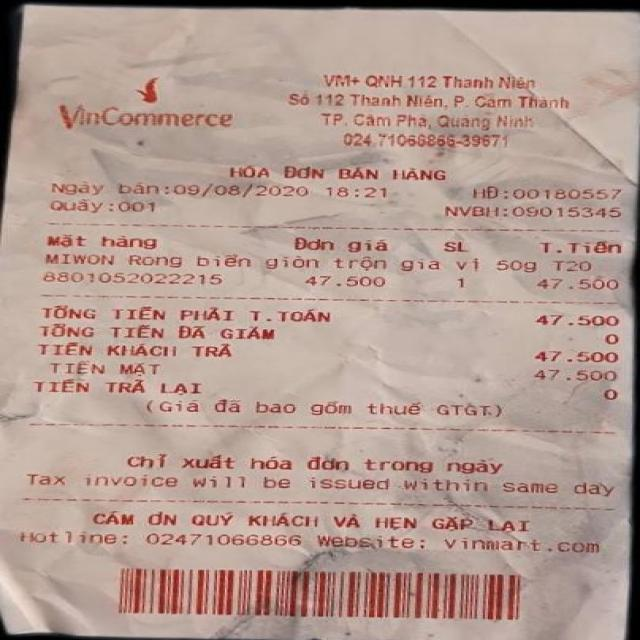Date: (171, 182, 313, 202)
Store_Name: (46, 69, 249, 140)
Total_Amount: (21, 298, 622, 330)
